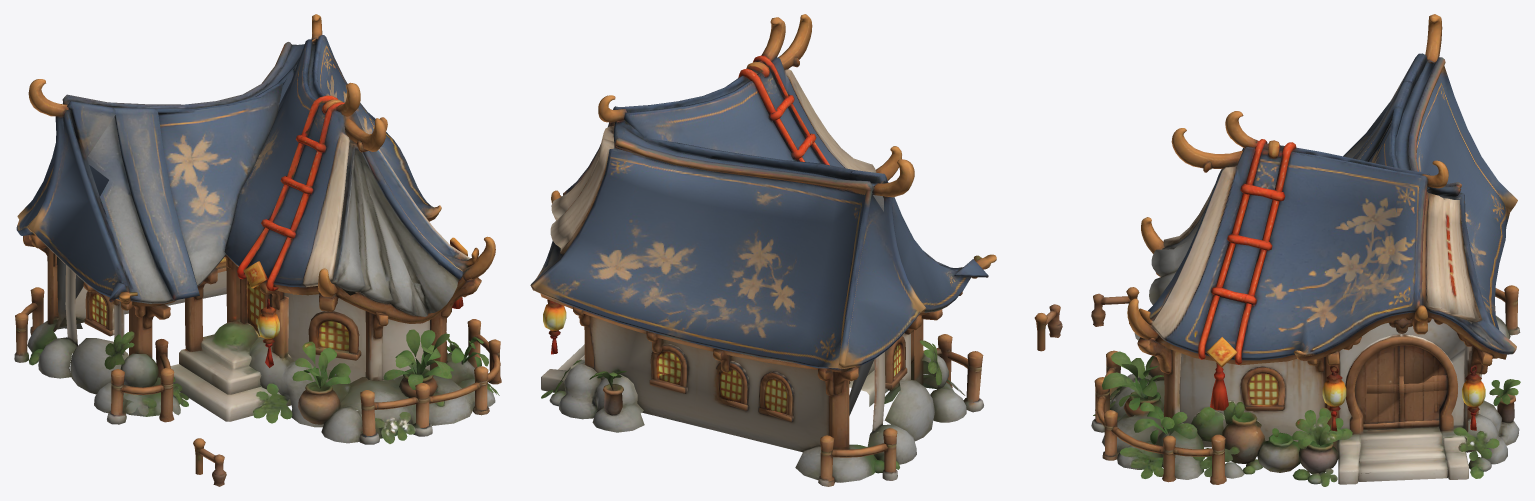
Rendered from ch06-album-house.glb.
The picture shows the model from 3 angles, left to right: view 1: azimuth 30°, elevation 25°; view 2: azimuth 150°, elevation 25°; view 3: azimuth 270°, elevation 25°; orthographic projection. The views are drawn at different scales.
Visible parts, largest first — view 1: tripo_node_2a66c945-d144-4bdb-8478-dab77122850c; view 2: tripo_node_2a66c945-d144-4bdb-8478-dab77122850c; view 3: tripo_node_2a66c945-d144-4bdb-8478-dab77122850c.
Part boxes in pixels (x1=…): tripo_node_2a66c945-d144-4bdb-8478-dab77122850c: x1=14, y1=14, x2=501, y2=486; tripo_node_2a66c945-d144-4bdb-8478-dab77122850c: x1=530, y1=14, x2=1062, y2=486; tripo_node_2a66c945-d144-4bdb-8478-dab77122850c: x1=1091, y1=14, x2=1520, y2=486.
Size of the model in its own units: 0.9956 by 0.811 by 0.9995.
Materials: 1 (1 with a texture image).
